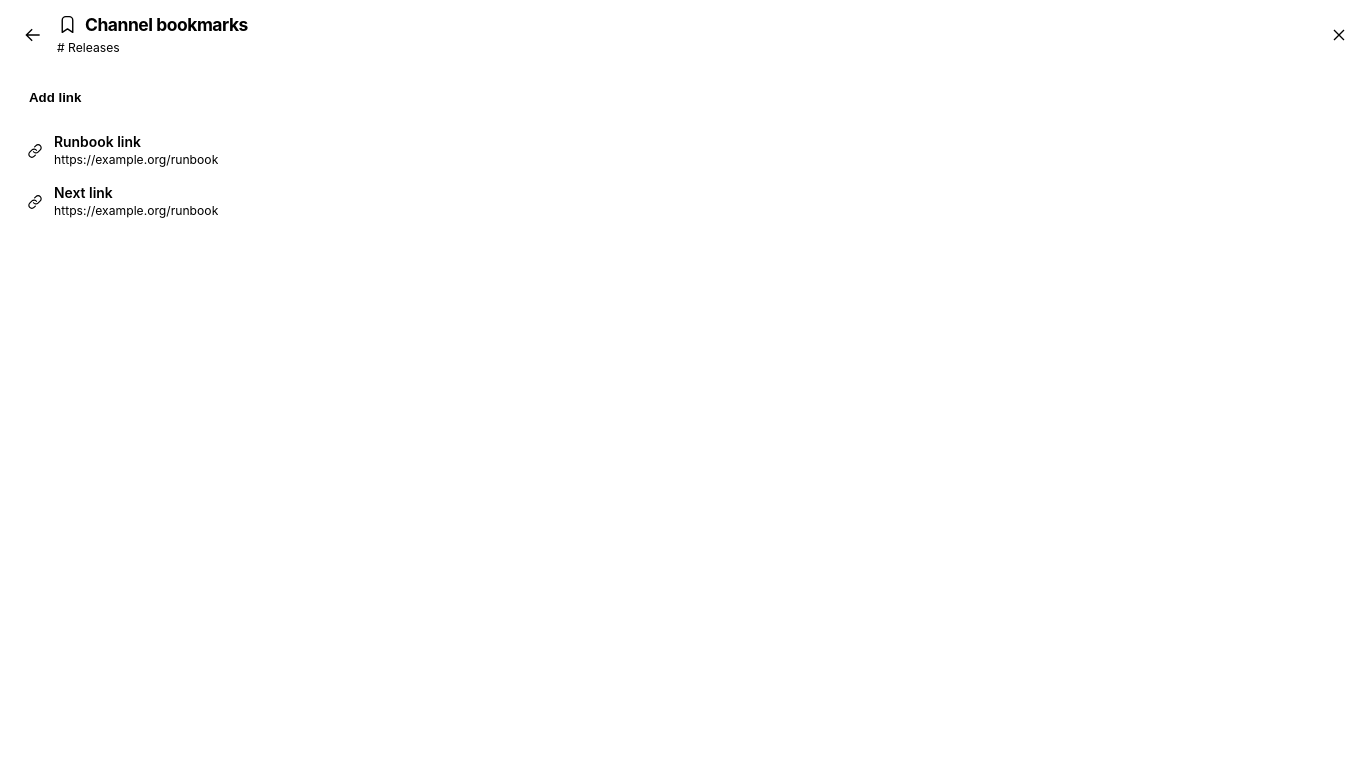
Test: frozen review preserves active row context after a dismissed editor confirms replace
Later steps or results of the test are not shown.
Click the button "Runbook link https://example.org/runbook" at (97, 142), box 16,125 -> 1350,176
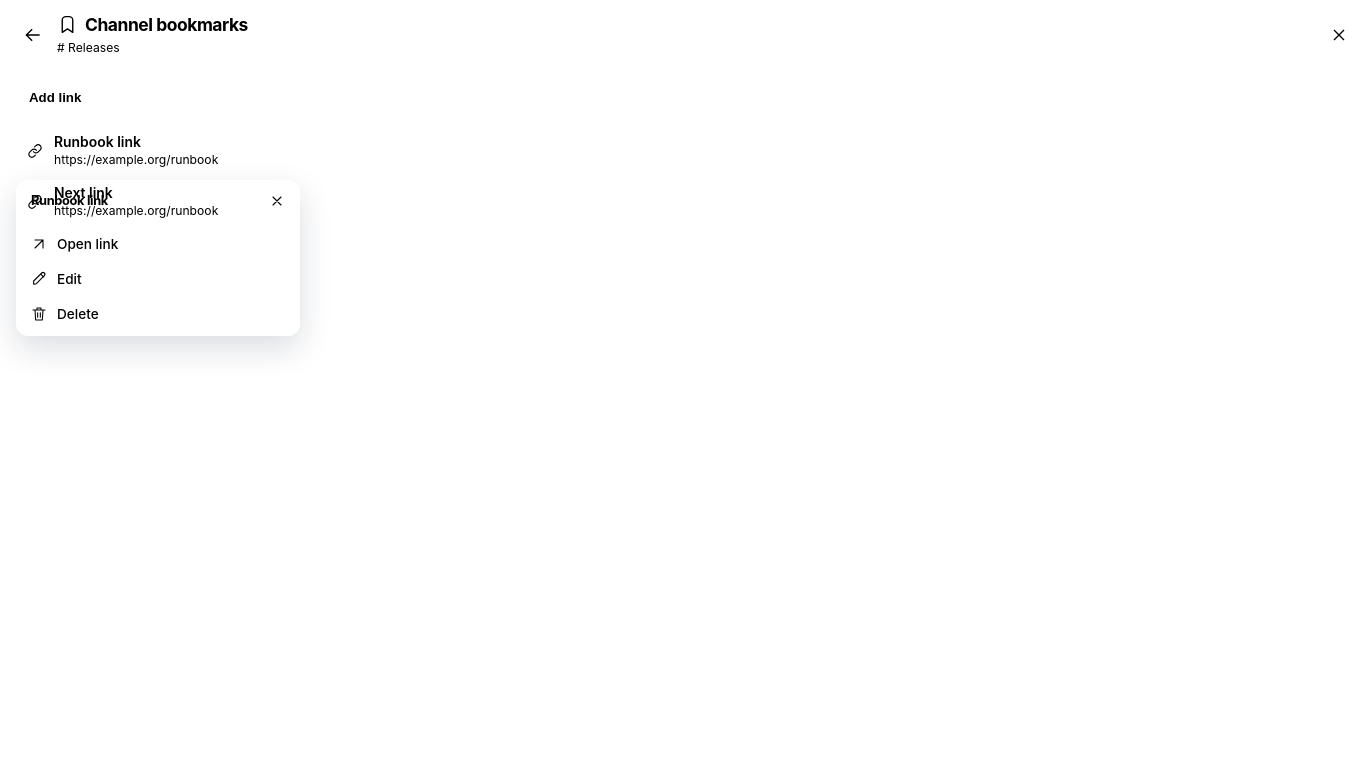
Click the button "Edit" at (39, 278), box 21,261 -> 295,296
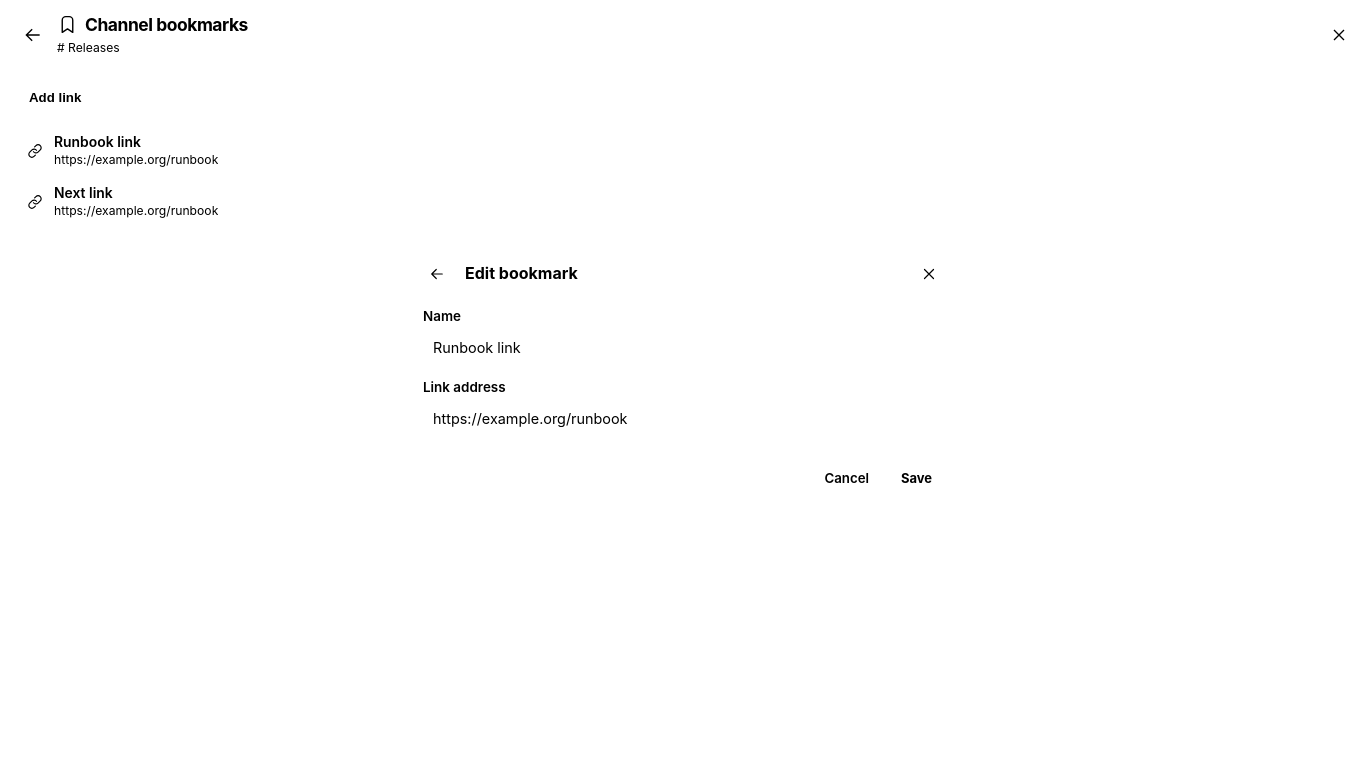
Replace the text in the field labelled "Name" with "Replacement" at (683, 348), box 423,330 -> 943,365
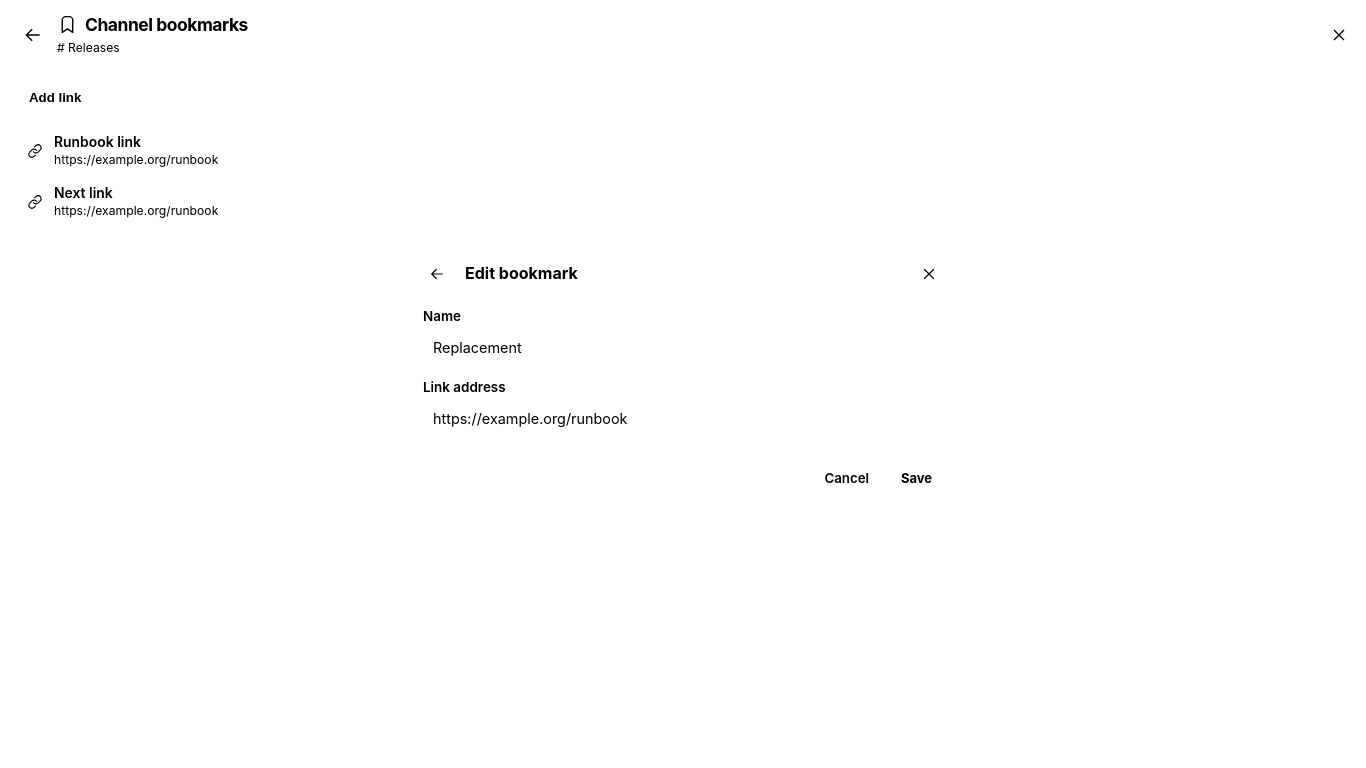
Click the button "Save" at (916, 478), box 890,463 -> 943,493
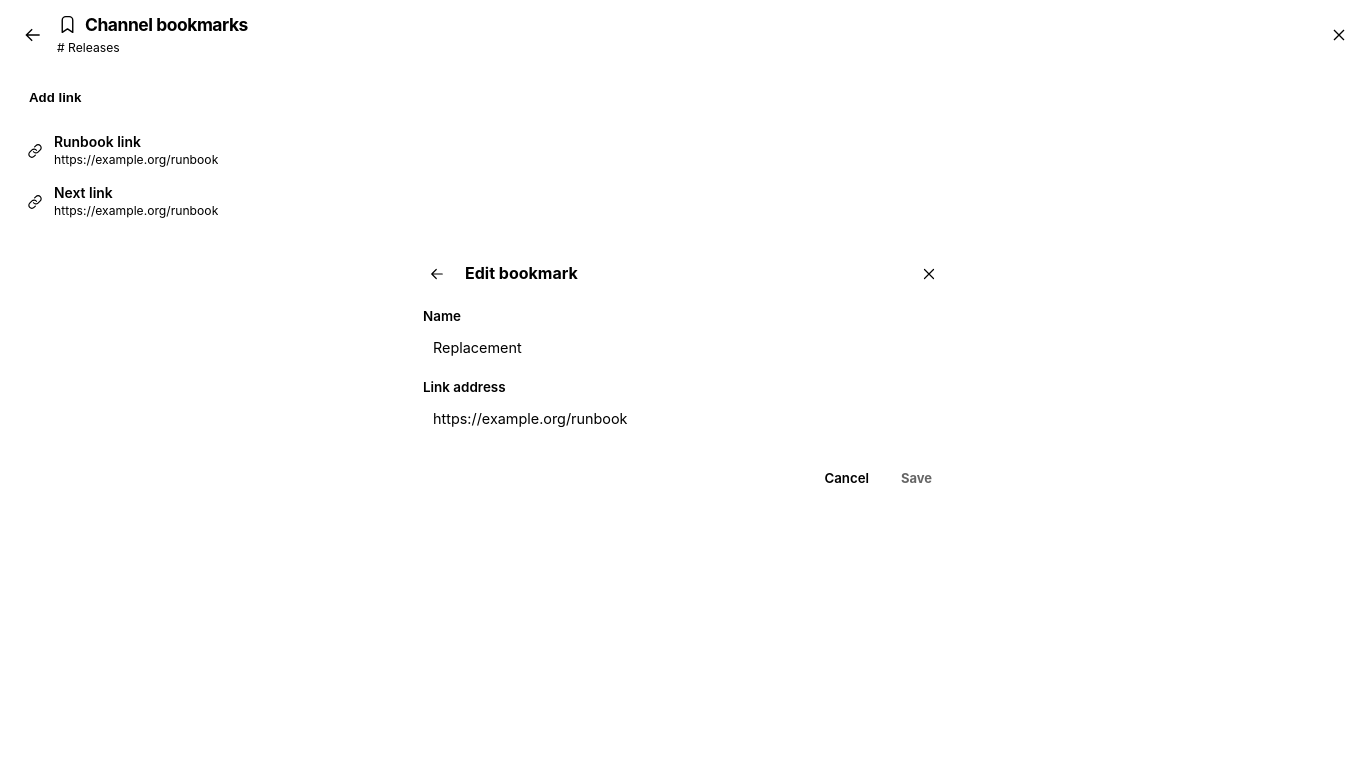
Click the button named "Close" at (929, 274), box 913,258 -> 945,290
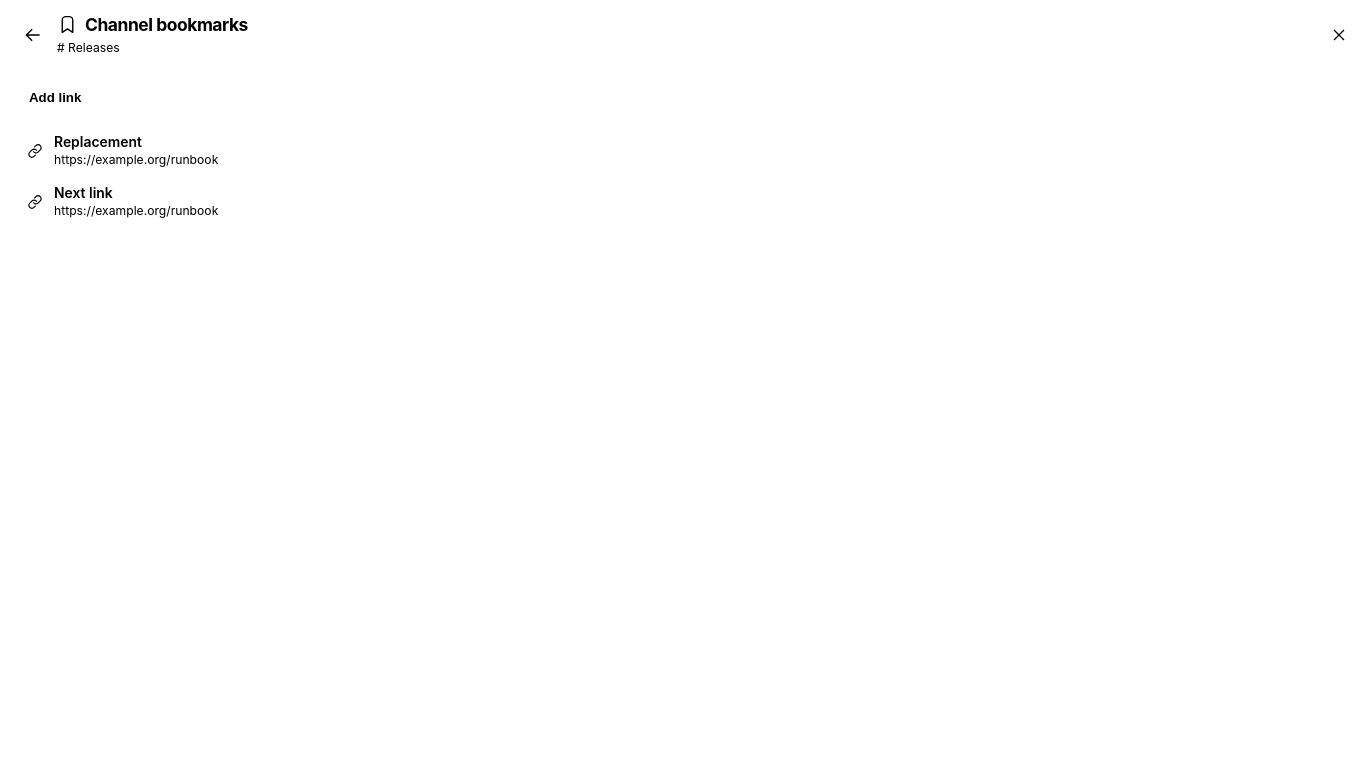
Now the button "Runbook link" is gone
